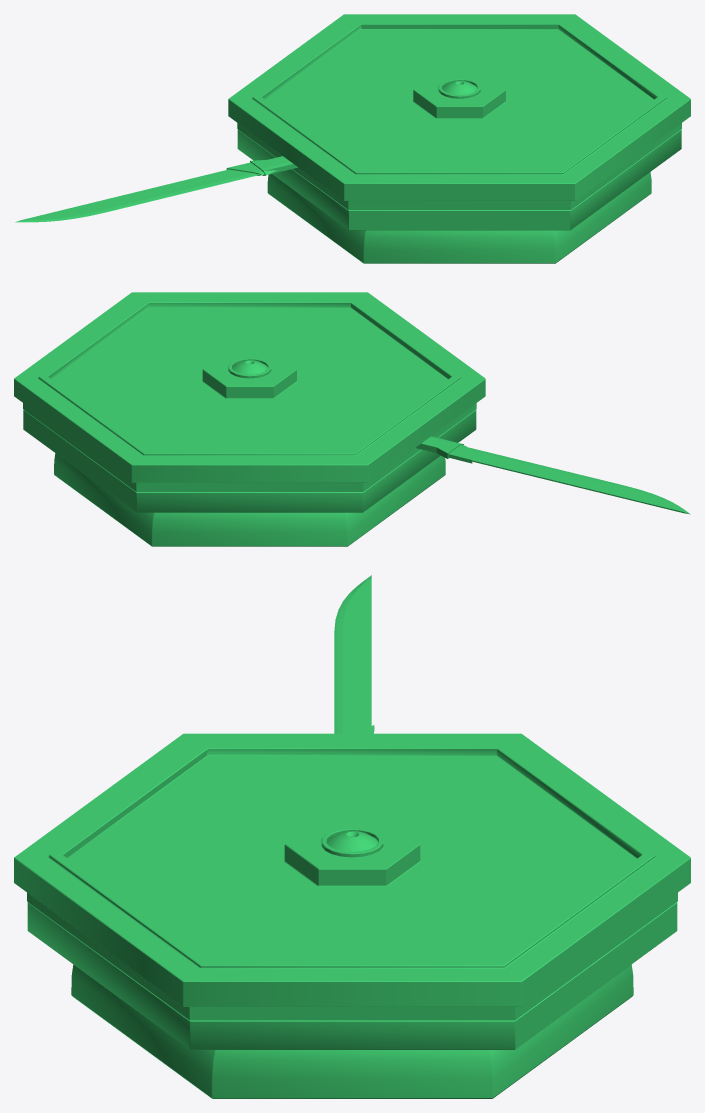
File: fou.FBX
The picture shows the model from 3 angles, top to bottom: view 1: azimuth 30°, elevation 25°; view 2: azimuth 150°, elevation 25°; view 3: azimuth 270°, elevation 25°; orthographic projection. The views are drawn at different scales.
Parts seen in each view (by area): view 1: Corps, Corps_epee, Oeil; view 2: Corps, Corps_epee, Oeil; view 3: Corps, Corps_epee, Oeil.
Part boxes in pixels (box(x1,y1,x2,y2)): Corps: box(228, 14, 690, 263); Corps_epee: box(15, 123, 681, 222); Oeil: box(438, 78, 480, 98); Corps: box(14, 292, 485, 546); Corps_epee: box(23, 403, 690, 514); Oeil: box(228, 357, 271, 378); Corps: box(14, 733, 690, 1098); Corps_epee: box(27, 575, 677, 1020); Oeil: box(321, 827, 383, 857).
Size of the model in its own units: 531 by 91.57 by 347.
